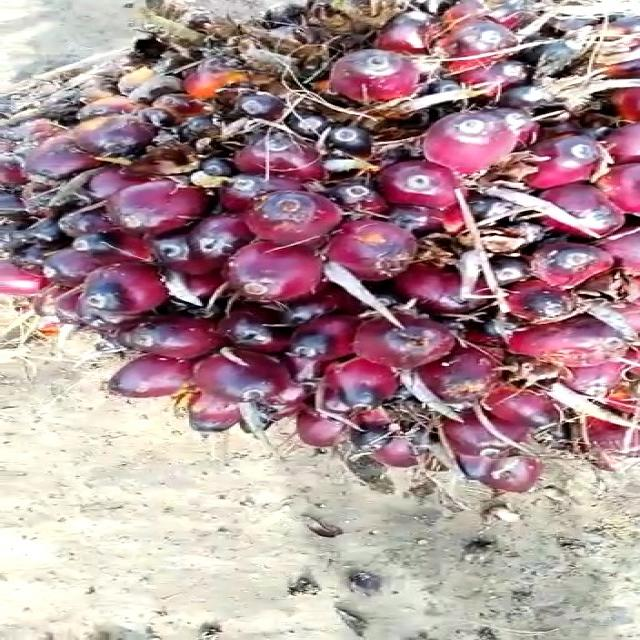palm oil: (0, 2, 640, 508)
